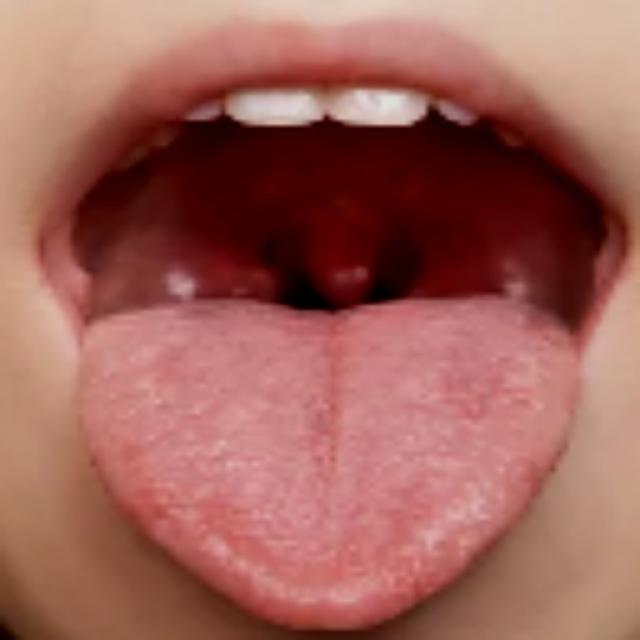processing_area: (84, 131, 600, 636)
